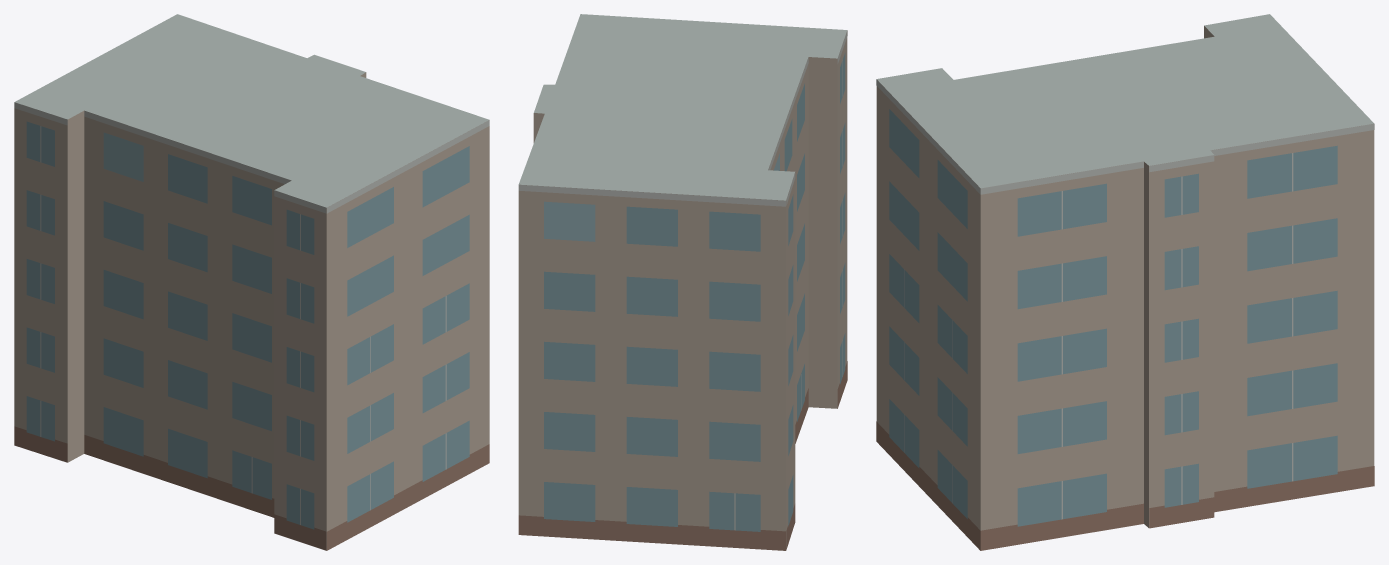
The model's file is survey-upis-32934564.glb.
3 views of the same model, side by side, from view 1: azimuth 30°, elevation 25°; view 2: azimuth 150°, elevation 25°; view 3: azimuth 270°, elevation 25° (orthographic). The views are drawn at different scales.
Parts seen in each view (by area): view 1: survey-upis-32934564.tmp; view 2: survey-upis-32934564.tmp; view 3: survey-upis-32934564.tmp.
Boxes of the visible parts, x1,y1,x2,y2 form: survey-upis-32934564.tmp: [14, 14, 489, 550]; survey-upis-32934564.tmp: [518, 14, 847, 550]; survey-upis-32934564.tmp: [876, 14, 1374, 550].
Bounding box in the file's own units: 14.35 × 13.9 × 17.32.
